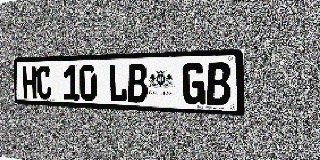0: (79, 65, 96, 101)
1: (63, 65, 79, 100)
B: (206, 62, 231, 106), (128, 64, 148, 103)
C: (36, 66, 52, 99)
G: (182, 63, 205, 105)
H: (22, 66, 37, 99)
L: (108, 64, 127, 102)
